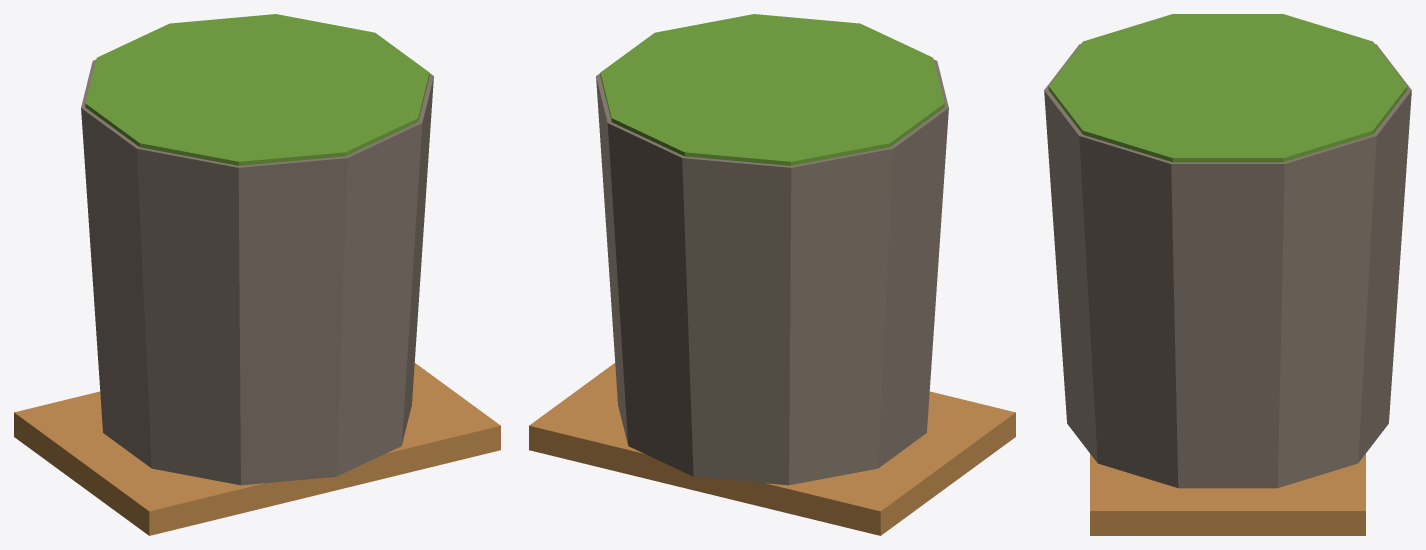
File: matcha_cup.glb
3 renders of one model, left to right at view 1: azimuth 30°, elevation 25°; view 2: azimuth 150°, elevation 25°; view 3: azimuth 270°, elevation 25°, orthographic.
Parts seen in each view (by area): view 1: matcha_cup; view 2: matcha_cup; view 3: matcha_cup.
Boxes of the visible parts, box(x1,y1,x2,y2) form: matcha_cup: box(14, 14, 500, 535); matcha_cup: box(529, 14, 1015, 535); matcha_cup: box(1044, 14, 1411, 535).
Size of the model in its own units: 0.09 by 0.087 by 0.08.
